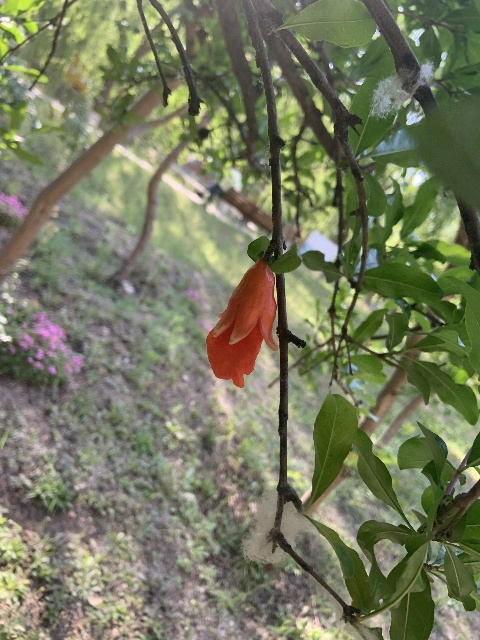flower: (206, 257, 279, 387)
